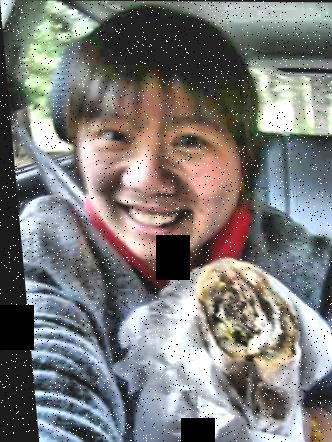seatbelt: (22, 106, 113, 243)
